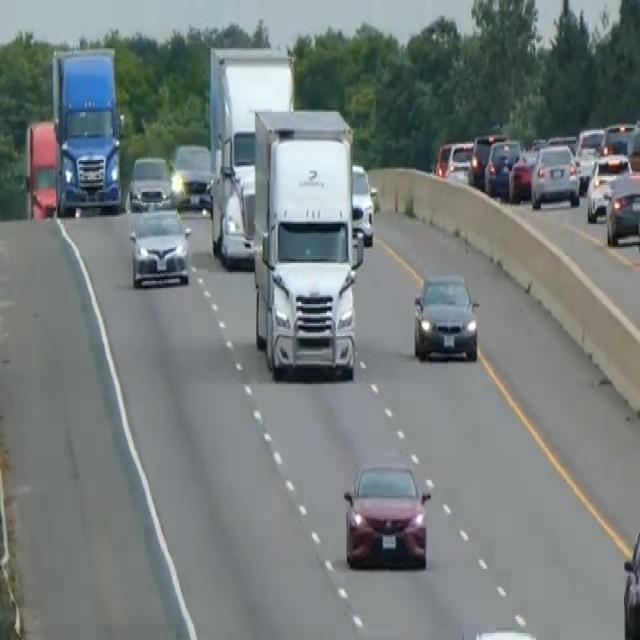car: (342, 458, 431, 570), (412, 270, 479, 363), (127, 206, 191, 288), (530, 140, 580, 210), (586, 151, 631, 222), (604, 171, 639, 247), (170, 140, 211, 204), (127, 153, 173, 210), (484, 137, 521, 197), (621, 523, 639, 638), (468, 130, 504, 187), (350, 162, 374, 244), (574, 126, 605, 188), (435, 137, 473, 179), (508, 148, 537, 202)
lorry: (251, 114, 362, 380), (50, 44, 125, 217)
